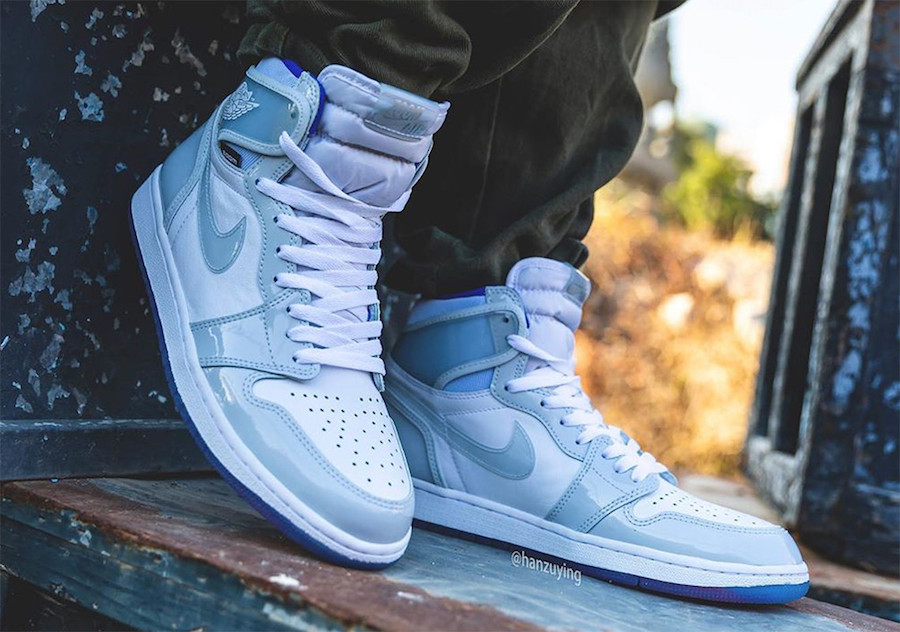Jordan 1: (123, 44, 455, 576), (374, 255, 817, 616)
